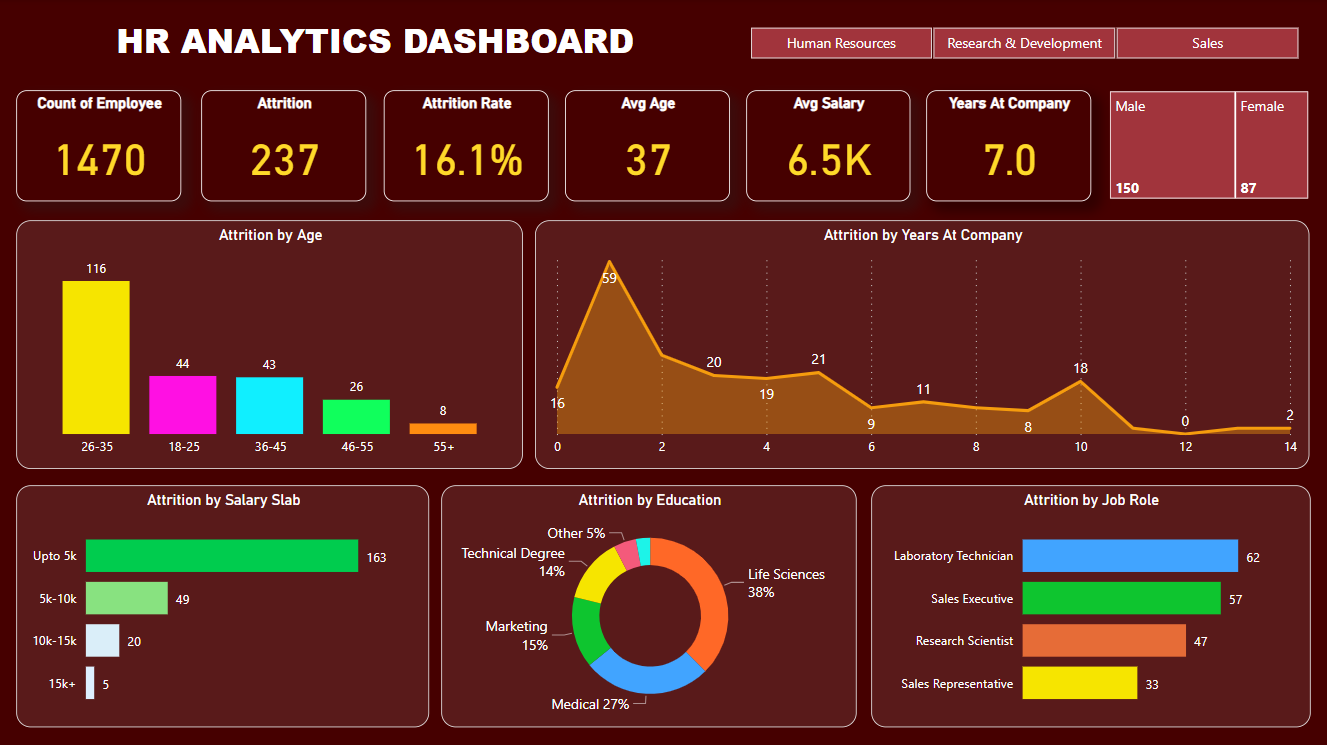

Layout of this report page (visuals, bound fields, positions):
{"tool":"powerbi","page":{"name":"Page 1","canvas":[1280,720],"ordinal":0},"visuals":[{"type":"card","title":"Count of Employee","fields":{"Values":["CountNonNull(HR_Analytics.EmpID)"]},"box":[15.5,88.1,159.5,107.1],"z":0},{"type":"card","title":"Attrition","fields":{"Values":["Sum(HR_Analytics.AttritionCount)"]},"box":[194,88.1,159.5,107.1],"z":1000},{"type":"card","title":"Attrition Rate","fields":{"Values":["HR_Analytics.AttritionRate"]},"box":[370.1,88.1,159.5,107.1],"z":2000},{"type":"card","title":"Avg Age","fields":{"Values":["Avg(HR_Analytics.Age)"]},"box":[545.1,88.1,159.5,107.1],"z":3000},{"type":"card","title":"Avg Salary","fields":{"Values":["Avg(HR_Analytics.MonthlyIncome)"]},"box":[720,88.1,158.3,107.1],"z":4000},{"type":"card","title":"Years At Company","fields":{"Values":["Avg(HR_Analytics.YearsAtCompany)"]},"box":[893.8,88.1,159.5,107.1],"z":5000},{"type":"donutChart","title":"Attrition by Education","fields":{"Category":["HR_Analytics.EducationField"],"Y":["Sum(HR_Analytics.AttritionCount)"]},"box":[426,468.9,401.1,233.3],"z":6000},{"type":"clusteredColumnChart","title":"Attrition by Age","fields":{"Category":["HR_Analytics.AgeGroup"],"Y":["Sum(HR_Analytics.AttritionCount)"]},"box":[15.5,213,489.1,240.4],"z":7000},{"type":"barChart","title":"Attrition by Salary Slab","fields":{"Category":["HR_Analytics.SalarySlab"],"Y":["Sum(HR_Analytics.AttritionCount)"]},"box":[15.5,468.9,398.7,233.3],"z":8000},{"type":"barChart","title":"Attrition by Job Role","fields":{"Y":["Sum(HR_Analytics.AttritionCount)"],"Category":["HR_Analytics.JobRole"]},"box":[840.2,468.9,423.7,233.3],"z":9000},{"type":"areaChart","title":"Attrition by Years At Company","fields":{"Y":["Sum(HR_Analytics.AttritionCount)"],"Category":["HR_Analytics.YearsAtCompany"]},"box":[516.5,213,747.4,240.4],"z":10000},{"type":"treemap","title":"Attrition by Gender","fields":{"Group":["HR_Analytics.Gender"],"Values":["Sum(HR_Analytics.AttritionCount)"]},"box":[1066.3,84.5,201.1,113.1],"z":11000},{"type":"slicer","fields":{"Values":["HR_Analytics.Department"]},"box":[698.6,20.2,578.4,44],"z":12000},{"type":"textbox","box":[19,11.9,685.5,61.9],"z":13000}]}

Visuals, with their boxes in screenshot pixels (x1, y1, x2, y2), scaled from the page's 1280x720 canvas onto the 1327x745 screenshot:
"Count of Employee" card: (x1=16, y1=91, x2=181, y2=202)
"Attrition" card: (x1=201, y1=91, x2=366, y2=202)
"Attrition Rate" card: (x1=384, y1=91, x2=549, y2=202)
"Avg Age" card: (x1=565, y1=91, x2=730, y2=202)
"Avg Salary" card: (x1=746, y1=91, x2=911, y2=202)
"Years At Company" card: (x1=927, y1=91, x2=1092, y2=202)
"Attrition by Education" donutChart: (x1=442, y1=485, x2=857, y2=727)
"Attrition by Age" clusteredColumnChart: (x1=16, y1=220, x2=523, y2=469)
"Attrition by Salary Slab" barChart: (x1=16, y1=485, x2=429, y2=727)
"Attrition by Job Role" barChart: (x1=871, y1=485, x2=1310, y2=727)
"Attrition by Years At Company" areaChart: (x1=535, y1=220, x2=1310, y2=469)
"Attrition by Gender" treemap: (x1=1105, y1=87, x2=1314, y2=204)
slicer - HR_Analytics.Department: (x1=724, y1=21, x2=1324, y2=66)
textbox: (x1=20, y1=12, x2=730, y2=76)
